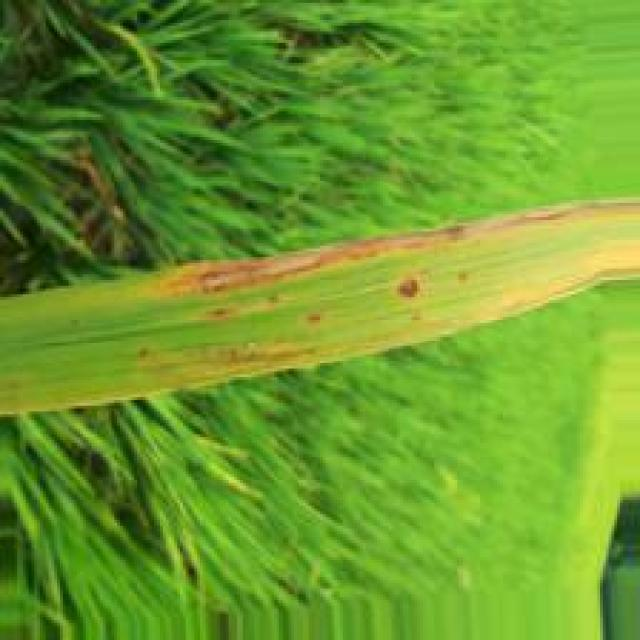Rice Tungro: (134, 212, 570, 301), (395, 263, 424, 304)
